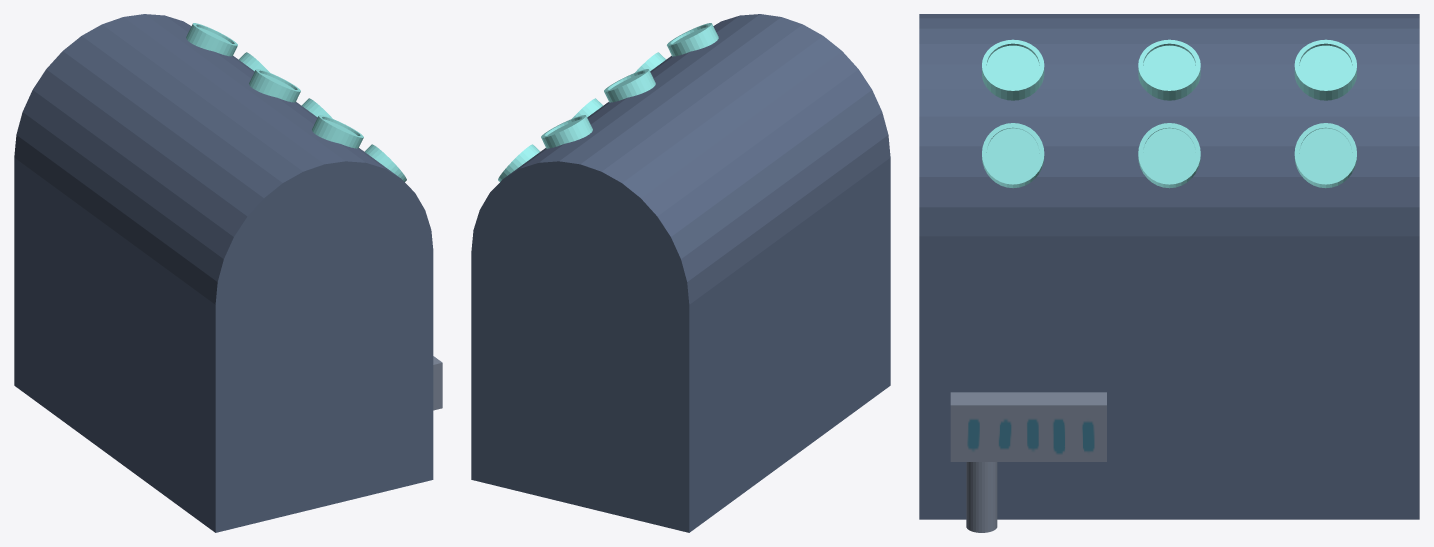
The model's file is Reactor-numbers.glb.
3 renders of one model, left to right at view 1: azimuth 30°, elevation 25°; view 2: azimuth 150°, elevation 25°; view 3: azimuth 270°, elevation 25°, orthographic. The views are drawn at different scales.
Visible parts, largest first — view 1: Cylinder.007; view 2: Cylinder.007; view 3: Cylinder.007.
Boxes of the visible parts, x1,y1,x2,y2 form: Cylinder.007: (14, 14, 442, 532); Cylinder.007: (471, 14, 890, 532); Cylinder.007: (919, 14, 1419, 532).
Bounding box in the file's own units: 2.2 × 3.07 × 3.2.
1 material, 1 textured.
